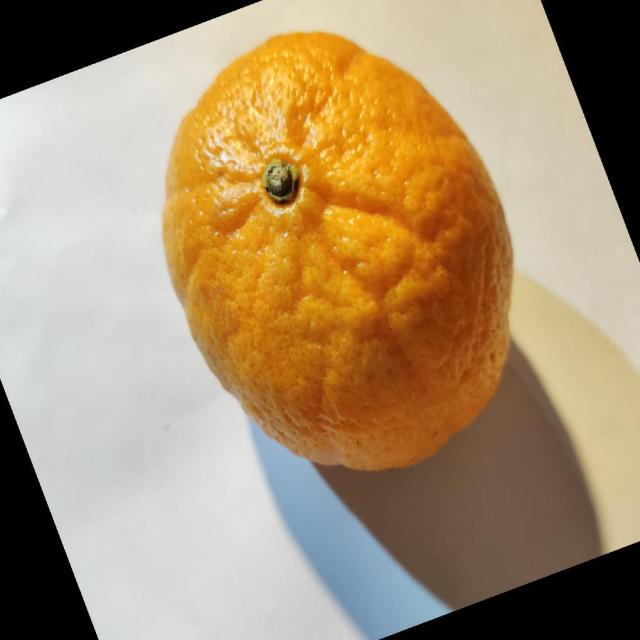fresh orange: (160, 29, 514, 472)
